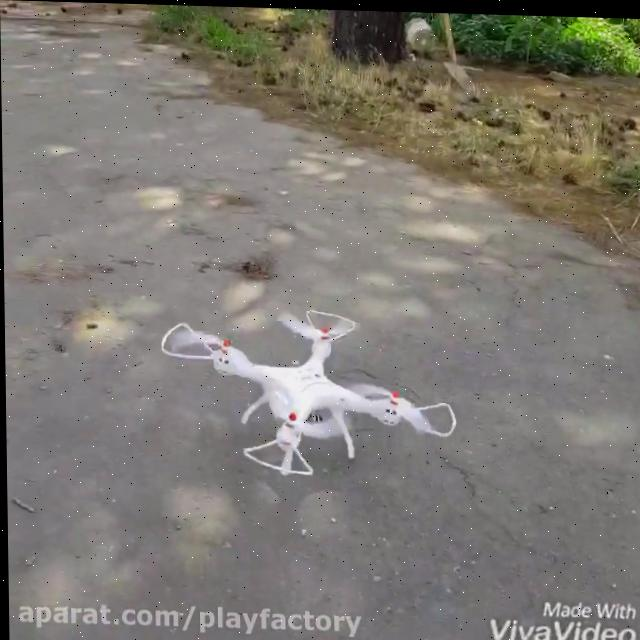drone: (157, 300, 456, 482)
